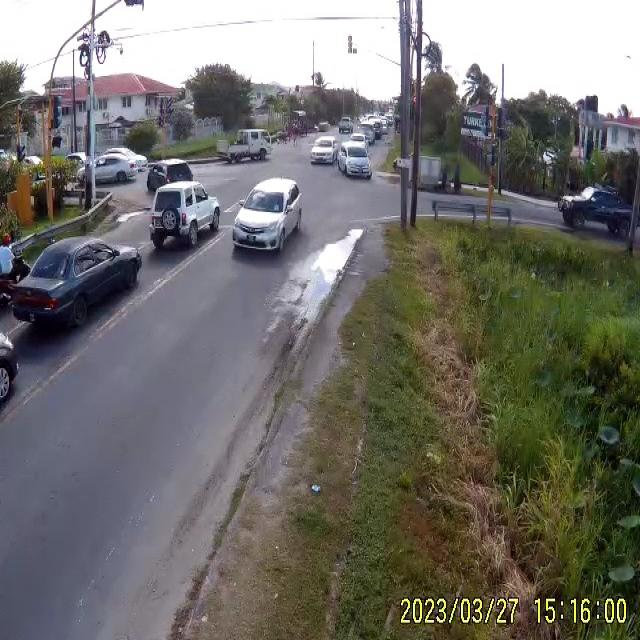car: (9, 237, 142, 335), (230, 178, 304, 253), (152, 182, 222, 246), (560, 188, 632, 235), (146, 159, 193, 194), (90, 155, 136, 184), (336, 144, 372, 180), (309, 139, 334, 165), (338, 118, 352, 134)
truck: (228, 130, 272, 166)
